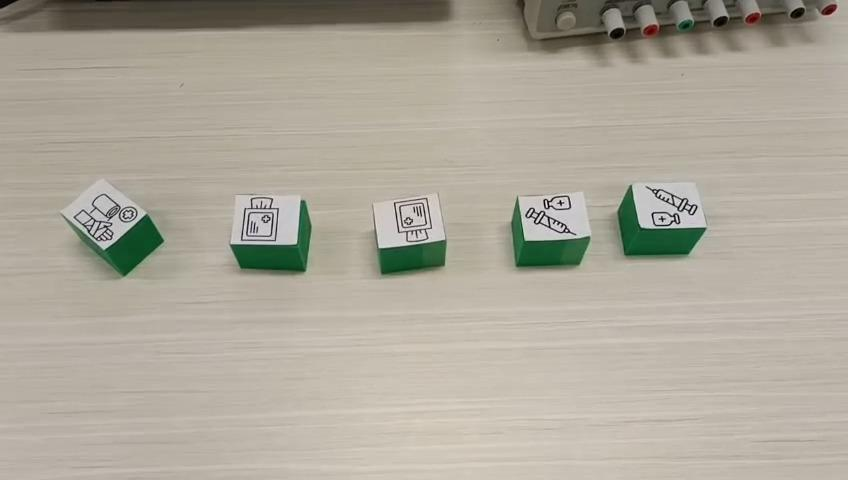Bandages: (58, 177, 165, 277)
Gauze: (230, 194, 312, 272), (371, 192, 446, 275)
antiseptic cream: (617, 180, 707, 256), (509, 190, 592, 266)
